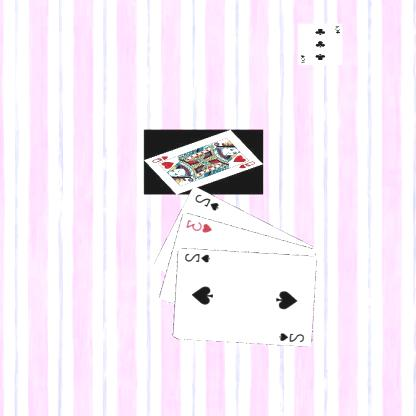2S: (194, 191, 221, 212), (183, 250, 213, 264), (278, 330, 308, 344)
3H: (184, 216, 214, 233)
